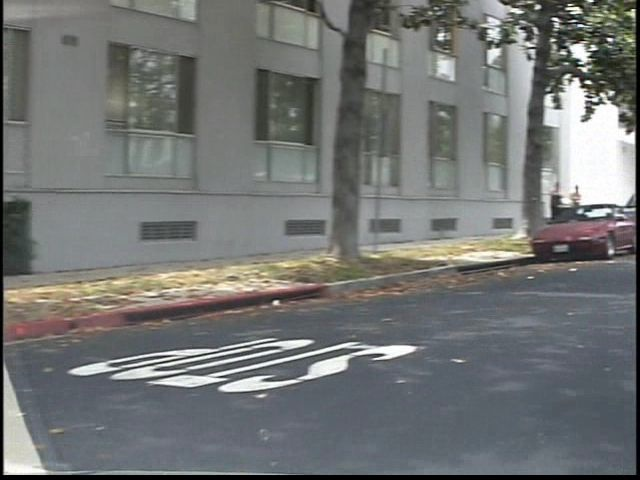person: (560, 177, 583, 238), (579, 182, 602, 235)
